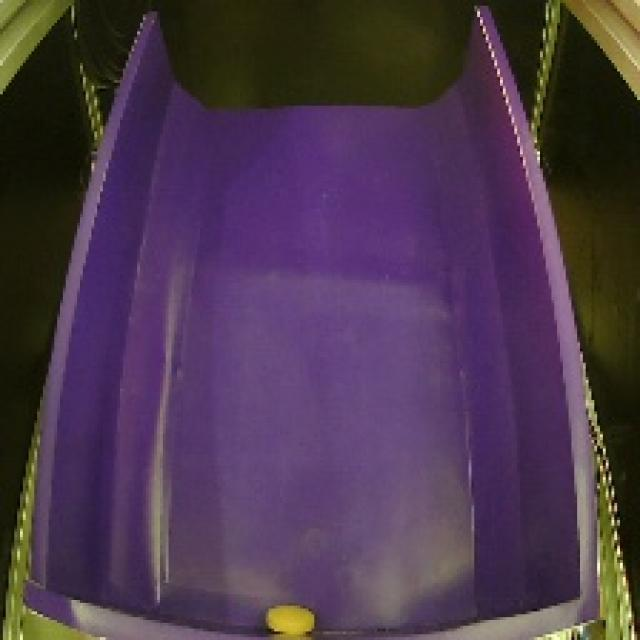small: (254, 591, 323, 640)
